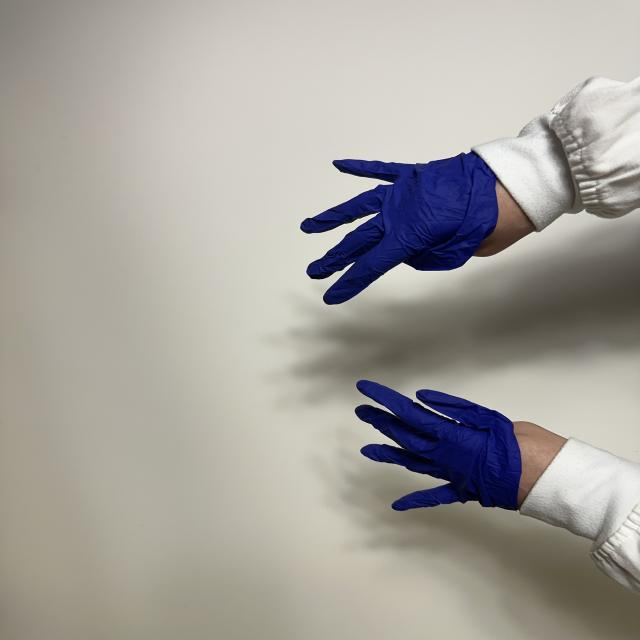glove_partial: (301, 153, 535, 304), (355, 380, 568, 511)
